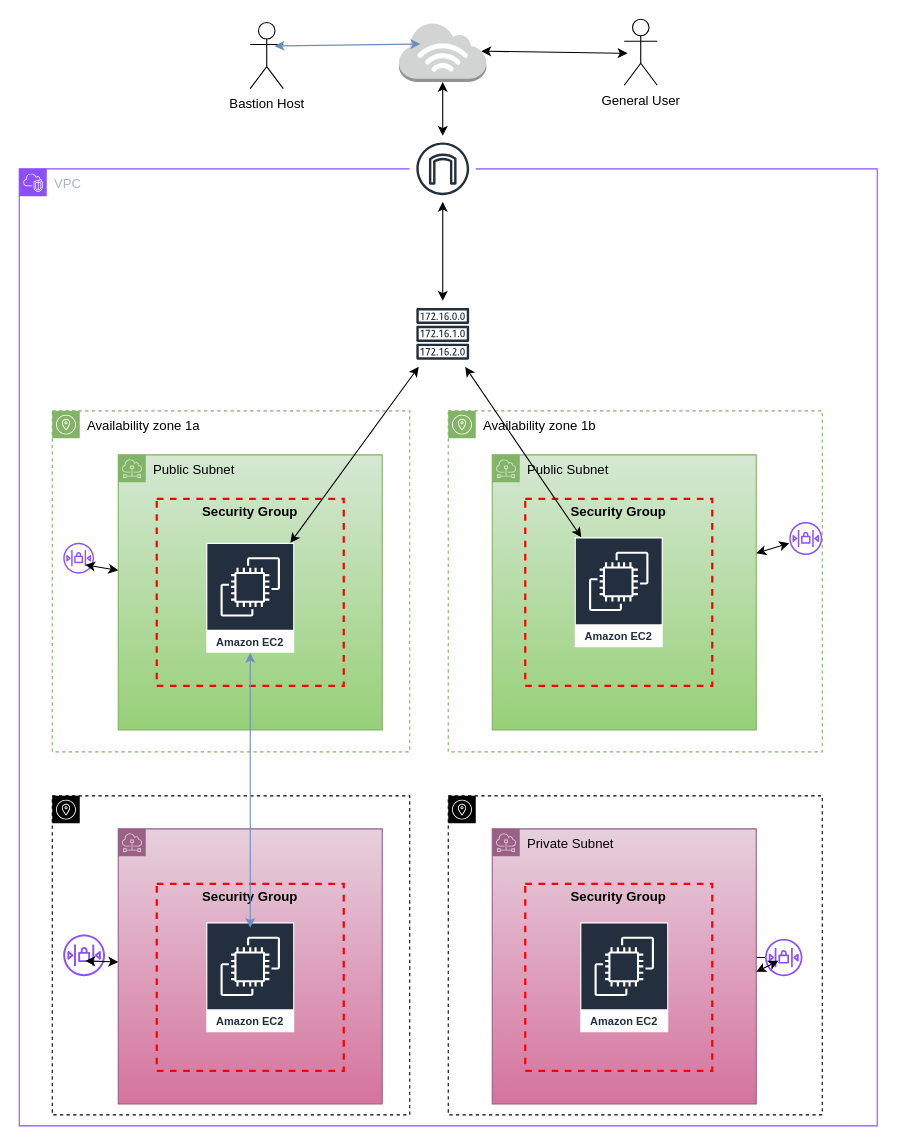
Image size: 897x1145. Some labels were removed from this diagram. The box of each missing label's shape, as (x1, y1, x2, y2) in pixels:
Availability zone 1c: (51, 795, 410, 1115)
Availability zone 1d: (447, 795, 822, 1115)
Internet gateway: (409, 135, 476, 202)
Provate Subnet: (117, 828, 382, 1104)
Route table: (409, 300, 476, 367)
